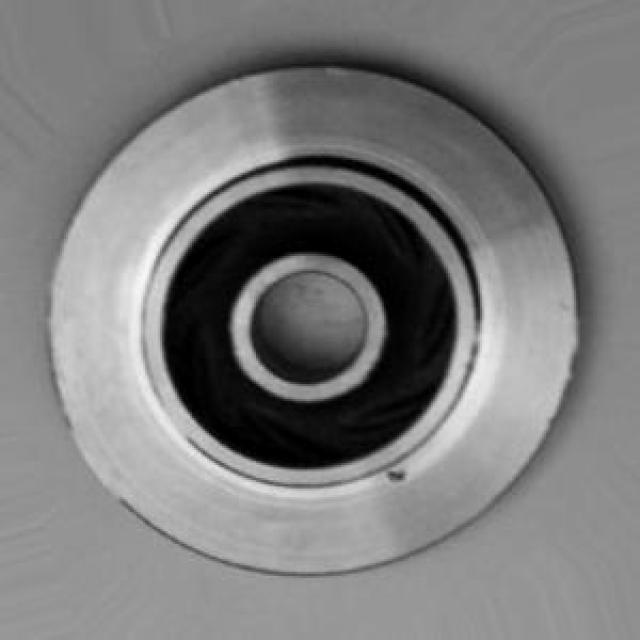Defect: (388, 464, 407, 498)
